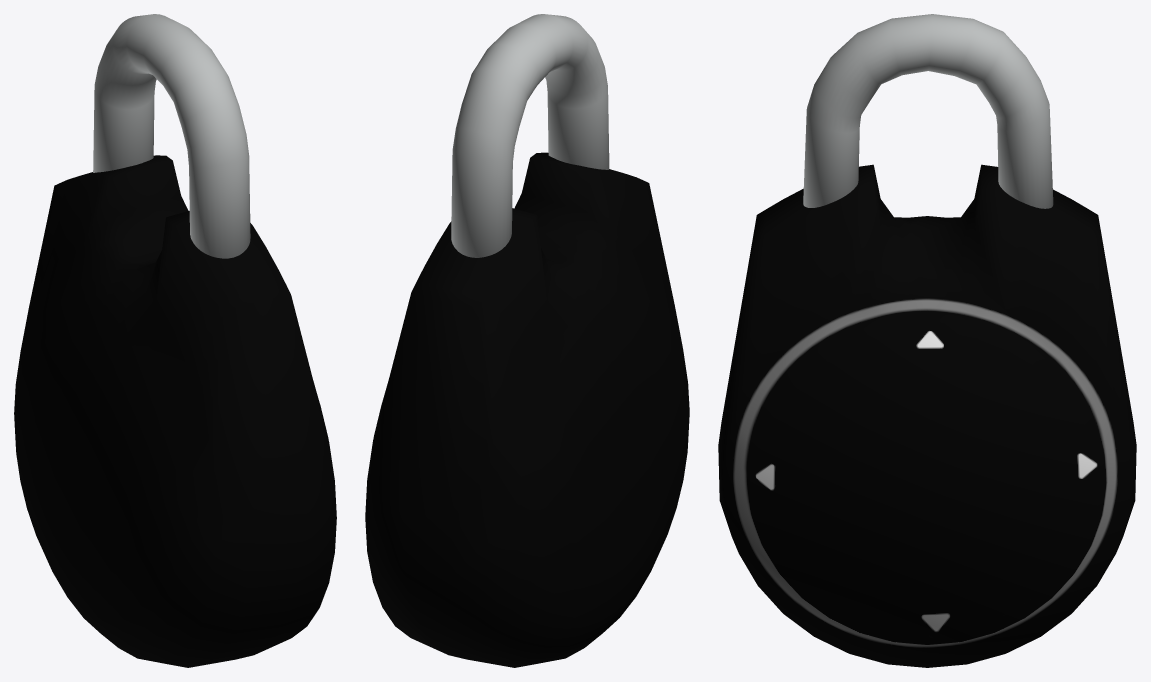
The model's file is LucchettoCorpo.fbx.
3 renders of one model, left to right at view 1: azimuth 30°, elevation 25°; view 2: azimuth 150°, elevation 25°; view 3: azimuth 270°, elevation 25°, orthographic.
Parts seen in each view (by area): view 1: Corpo Lucchetto, Gancio lucchetto; view 2: Corpo Lucchetto, Gancio lucchetto; view 3: Corpo Lucchetto, Gancio lucchetto.
Part boxes in pixels (box(x1,y1,x2,y2)): Corpo Lucchetto: box(14, 155, 336, 667); Gancio lucchetto: box(93, 14, 250, 258); Corpo Lucchetto: box(365, 152, 689, 667); Gancio lucchetto: box(451, 14, 609, 257); Corpo Lucchetto: box(718, 164, 1136, 667); Gancio lucchetto: box(803, 14, 1053, 208).
Size of the model in its own units: 2.45 by 8.46 by 5.12.
